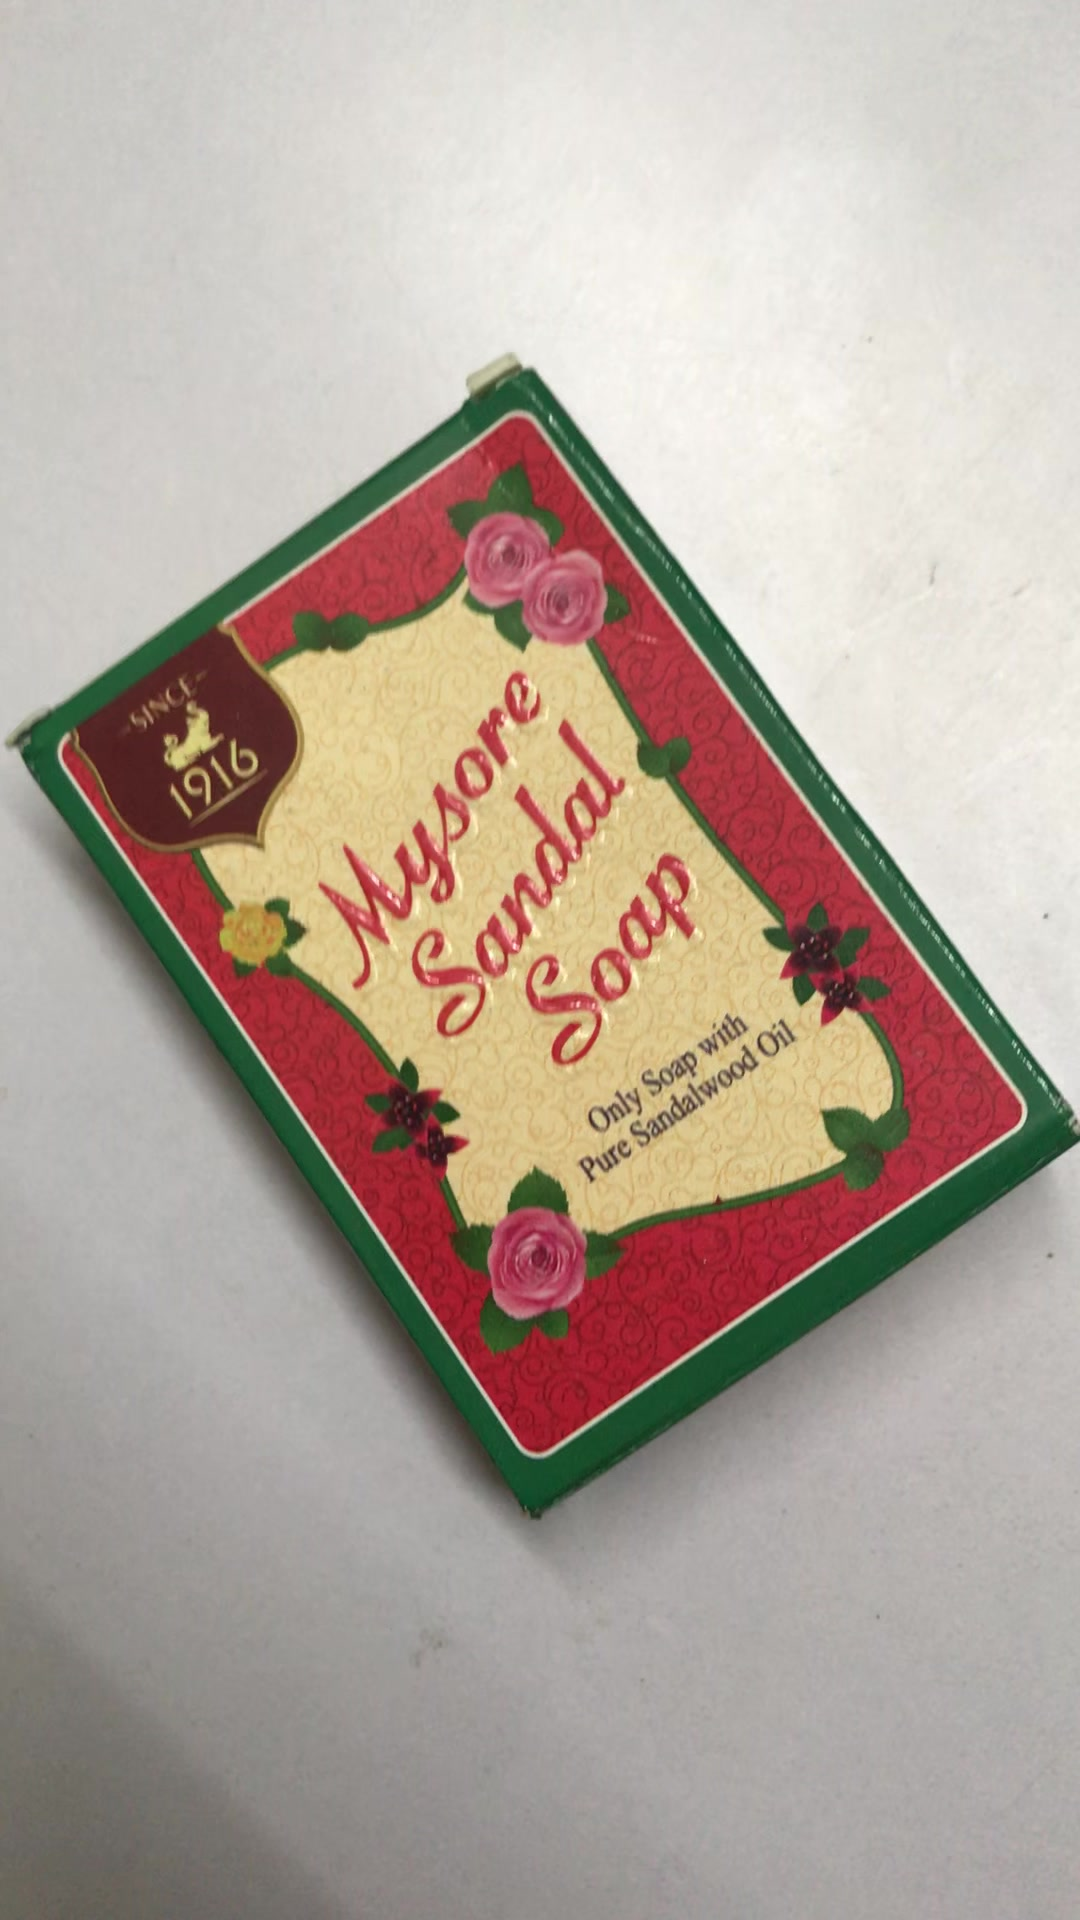mysore sandal soap: (7, 375, 1080, 1515)
